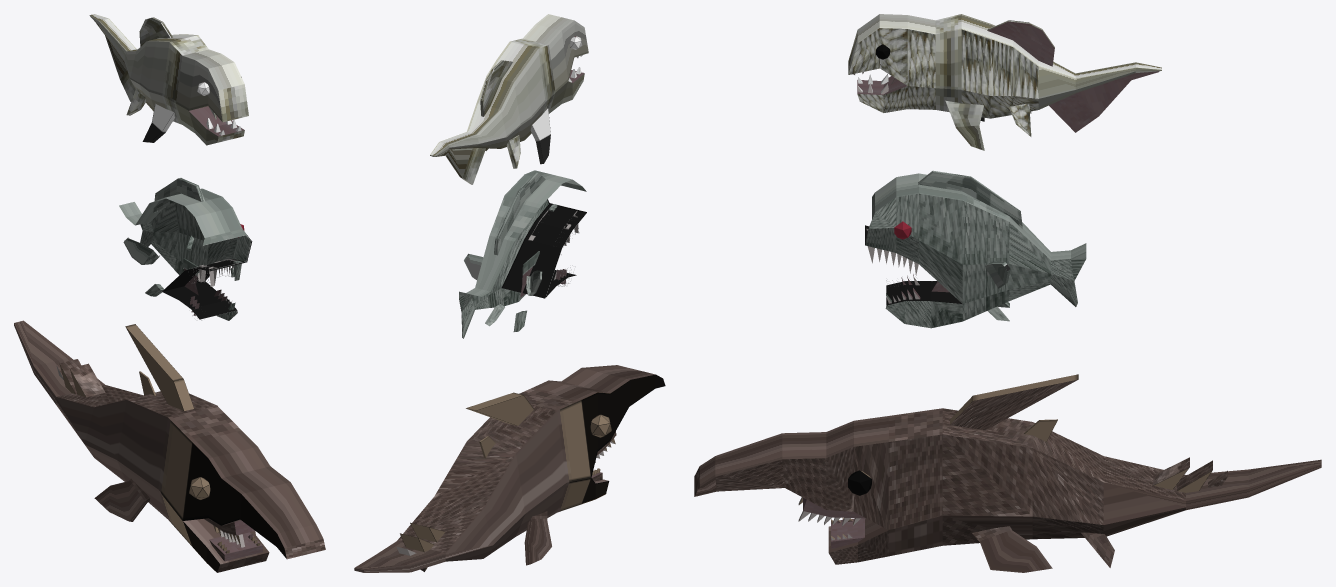
File: peixes-gamejam.fbx
3 views of the same model, side by side, from view 1: azimuth 30°, elevation 25°; view 2: azimuth 150°, elevation 25°; view 3: azimuth 270°, elevation 25° (orthographic). The views are drawn at different scales.
Parts seen in each view (by area): view 1: Cube, Cube.007, Cube.005; view 2: Cube, Cube.007, Cube.005; view 3: Cube, Cube.007, Cube.005.
Boxes of the visible parts, left/top/right/bottom form: Cube: left=14, top=320, right=325, bottom=572; Cube.007: left=89, top=14, right=248, bottom=145; Cube.005: left=119, top=178, right=252, bottom=320; Cube: left=354, top=365, right=665, bottom=572; Cube.007: left=430, top=14, right=588, bottom=184; Cube.005: left=459, top=170, right=586, bottom=338; Cube: left=694, top=374, right=1321, bottom=572; Cube.007: left=848, top=14, right=1161, bottom=150; Cube.005: left=865, top=170, right=1086, bottom=328.
Bounding box in the file's own units: 311 × 1505 × 1611.
